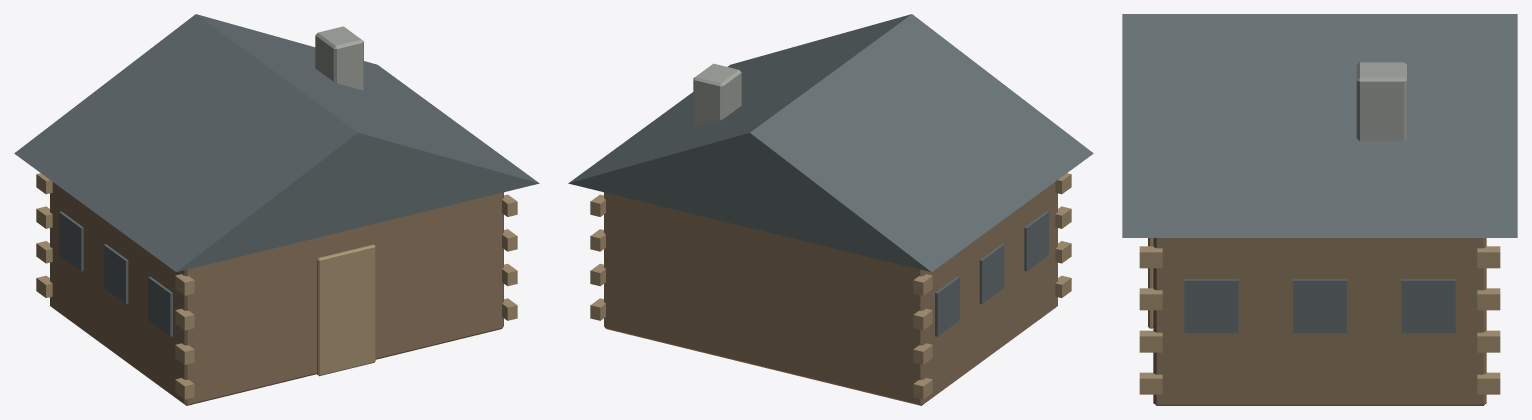
File: props.glb
3 views of the same model, side by side, from view 1: azimuth 30°, elevation 25°; view 2: azimuth 150°, elevation 25°; view 3: azimuth 270°, elevation 25° (orthographic). The views are drawn at different scales.
Visible parts, largest first — view 1: Cabin_Mesh; view 2: Cabin_Mesh; view 3: Cabin_Mesh.
Boxes of the visible parts, x1=… form: Cabin_Mesh: x1=14, y1=14, x2=539, y2=405; Cabin_Mesh: x1=568, y1=14, x2=1093, y2=405; Cabin_Mesh: x1=1122, y1=14, x2=1517, y2=405.
Size of the model in its own units: 6.6 by 4.75 by 5.1.
